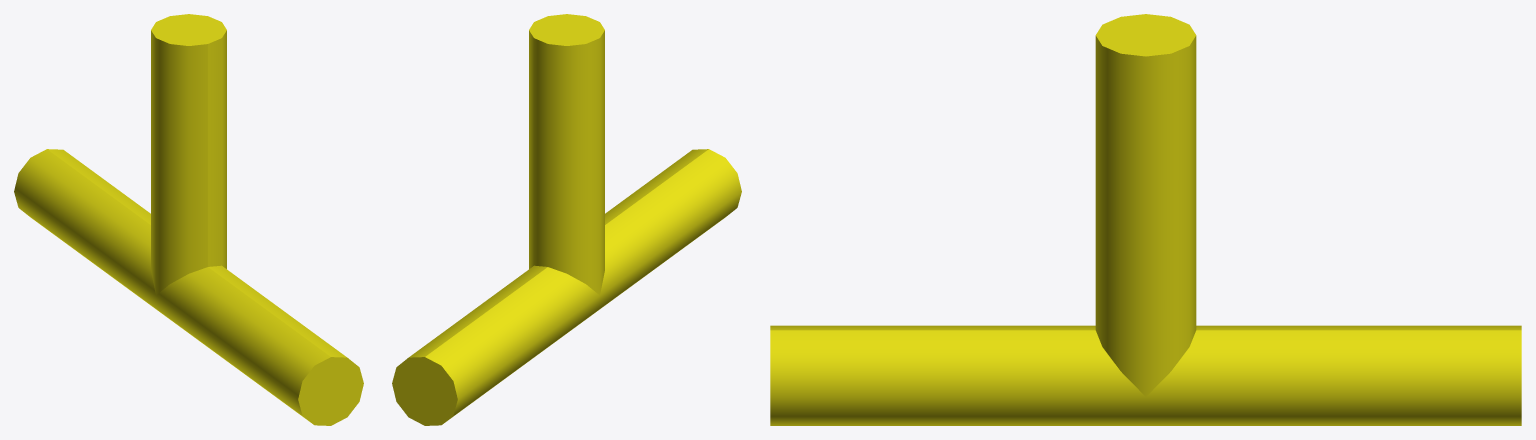
The model's file is PipeSM2.fbx.
The picture shows the model from 3 angles, left to right: view 1: azimuth 30°, elevation 25°; view 2: azimuth 150°, elevation 25°; view 3: azimuth 270°, elevation 25°; orthographic projection. The views are drawn at different scales.
Parts seen in each view (by area): view 1: PipeSM2; view 2: PipeSM2; view 3: PipeSM2.
Boxes of the visible parts, x1,y1,x2,y2 form: PipeSM2: [14, 14, 363, 425]; PipeSM2: [392, 14, 741, 425]; PipeSM2: [770, 14, 1521, 425].
Bounding box in the file's own units: 13.39 × 56.7 × 100.
